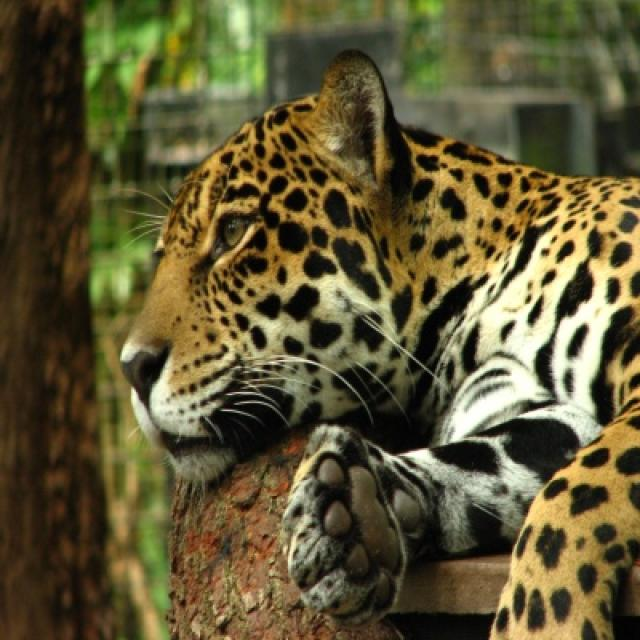Jaguar: (118, 50, 638, 638)
